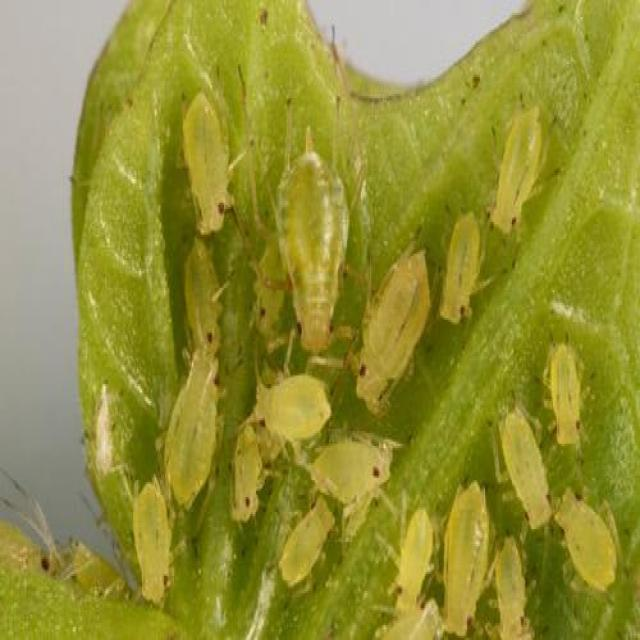Aphids: (261, 97, 359, 372), (155, 76, 257, 251), (349, 240, 439, 419), (155, 345, 230, 524), (244, 353, 340, 451), (435, 475, 492, 637), (307, 426, 402, 522)
